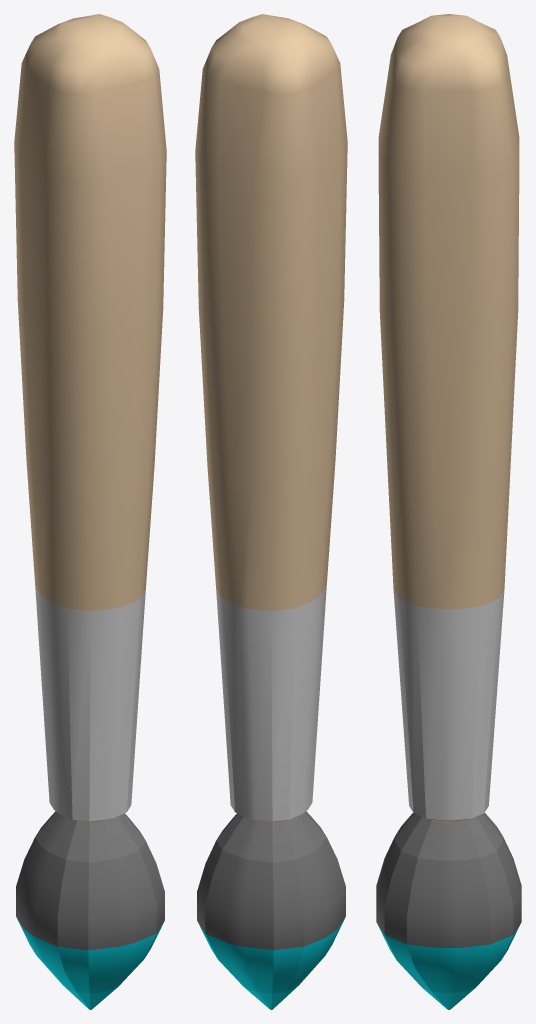
Rendered from brush.fbx.
The picture shows the model from 3 angles, left to right: view 1: azimuth 30°, elevation 25°; view 2: azimuth 150°, elevation 25°; view 3: azimuth 270°, elevation 25°; orthographic projection.
Visible parts, largest first — view 1: pCube3; view 2: pCube3; view 3: pCube3.
Part boxes in pixels (x1=…): pCube3: x1=14, y1=14, x2=166, y2=1009; pCube3: x1=195, y1=14, x2=347, y2=1009; pCube3: x1=376, y1=14, x2=521, y2=1009.
Bounding box in the file's own units: 1.16 × 9.02 × 1.2.
